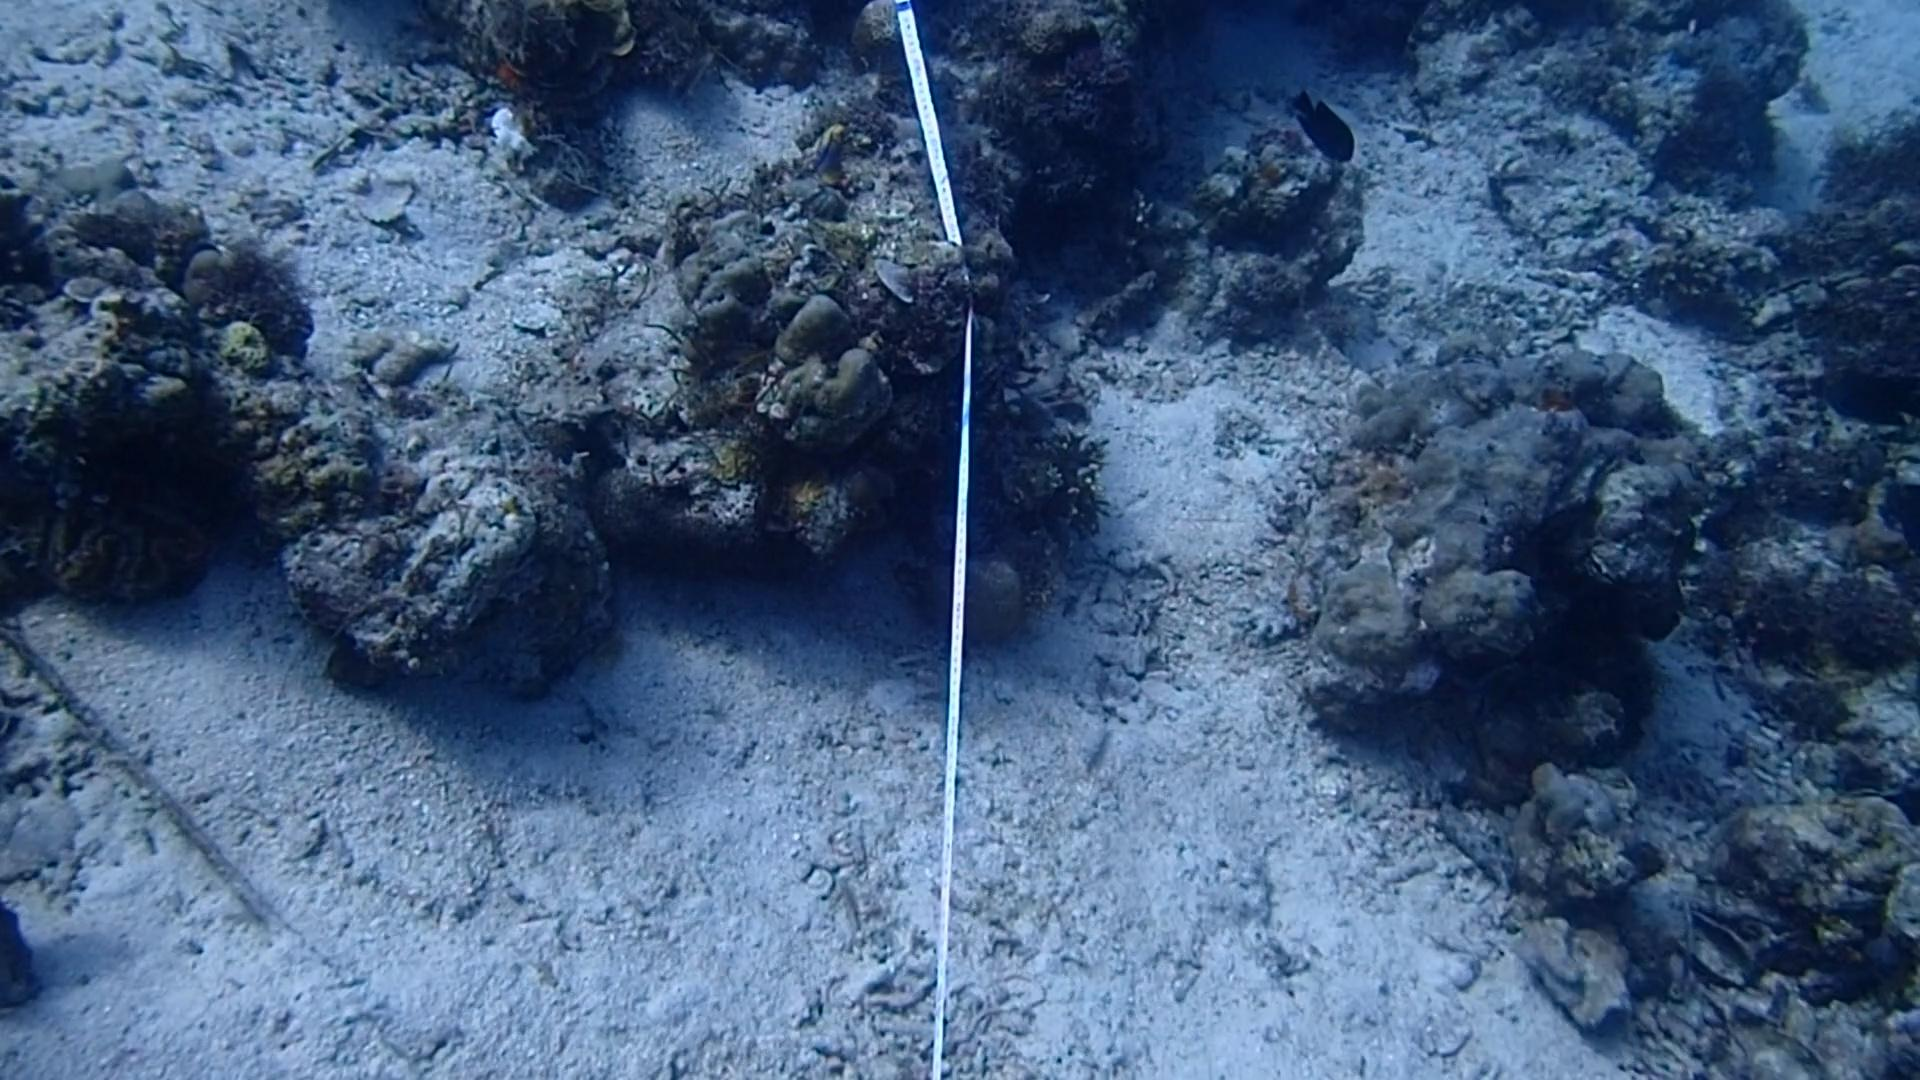Dark Fish: (1824, 361, 1917, 440), (1282, 82, 1356, 170)
Light Fish: (657, 32, 719, 116)
